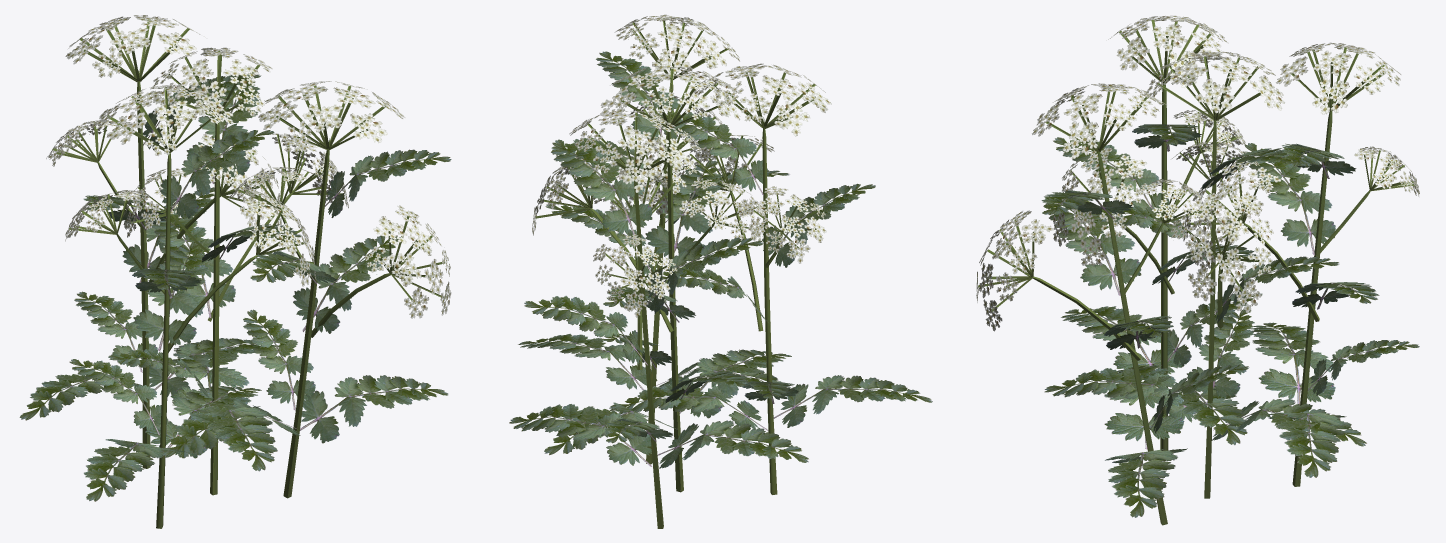
Rendered from tree_n.FBX.
3 views of the same model, side by side, from view 1: azimuth 30°, elevation 25°; view 2: azimuth 150°, elevation 25°; view 3: azimuth 270°, elevation 25° (orthographic). The views are drawn at different scales.
Visible parts, largest first — view 1: tree_n; view 2: tree_n; view 3: tree_n.
Part boxes in pixels (bbox=[...]): tree_n: bbox=[19, 15, 451, 528]; tree_n: bbox=[509, 14, 932, 528]; tree_n: bbox=[976, 15, 1419, 525].
Bounding box in the file's own units: 1.08 × 1.08 × 1.01.
1 material, 1 textured.
